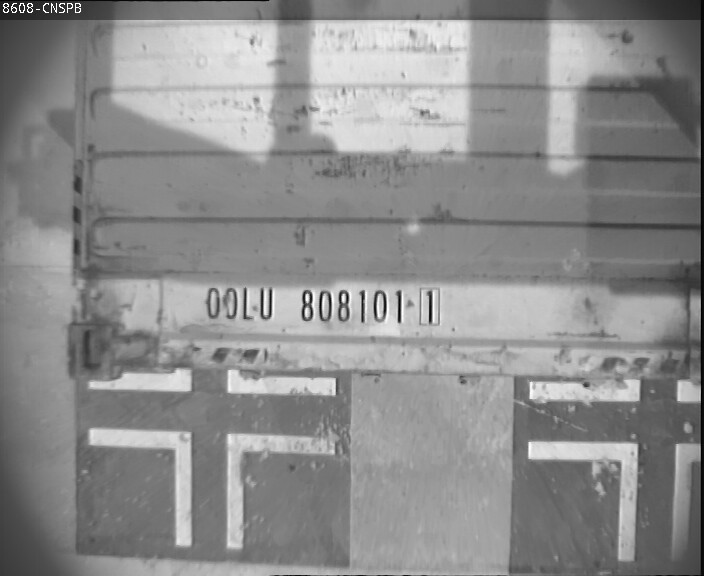groundmarker_1: (88, 427, 334, 547), (528, 438, 704, 559)
